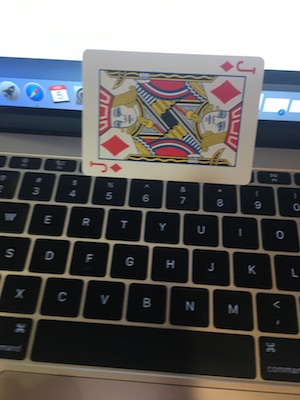JackOfDiamonds: (76, 39, 267, 194)
